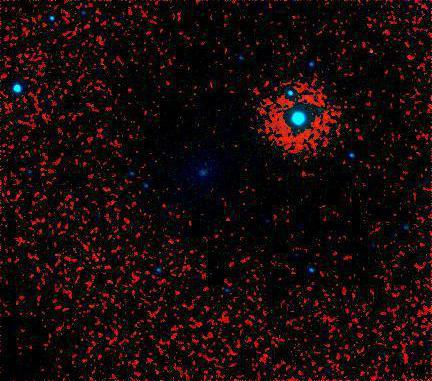star: (356, 37, 386, 67)
